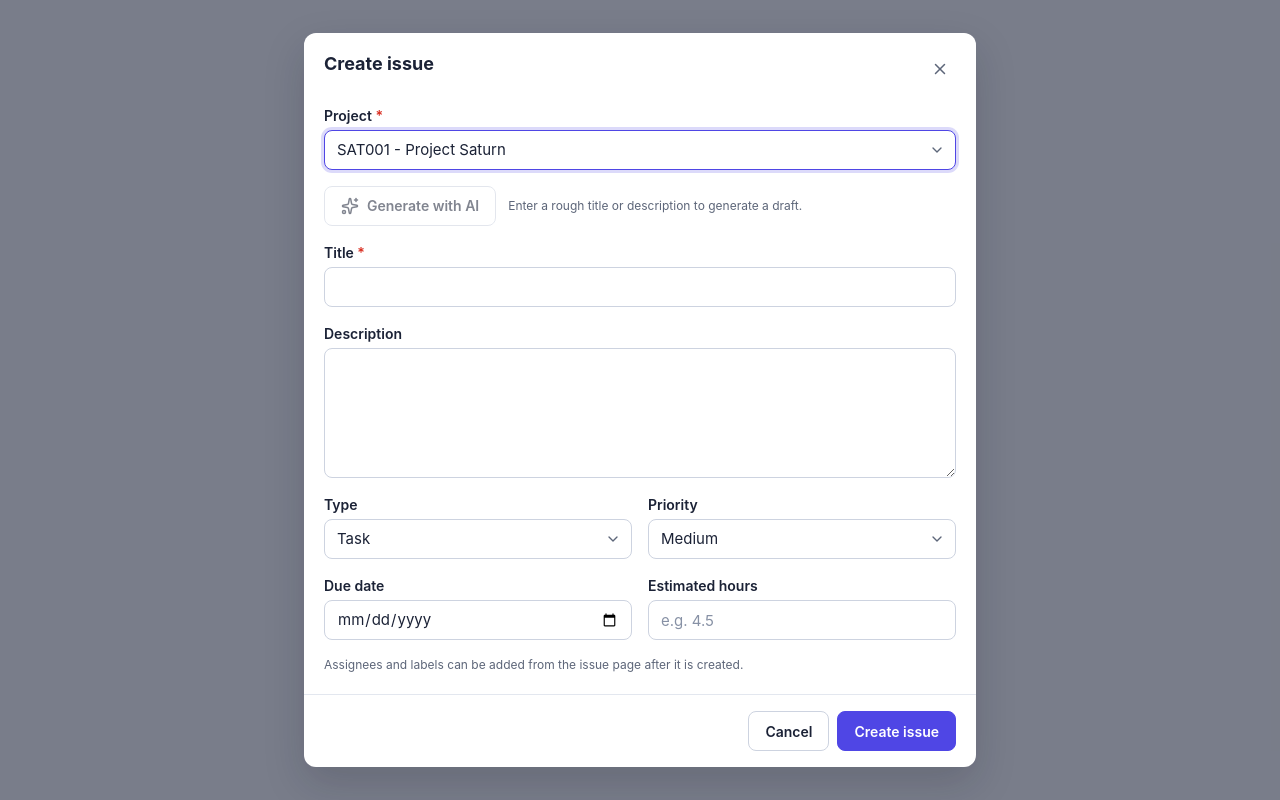
AI issue assistant in the create issue form › shows an error, keeps the form values, and allows retry
The width and height of the screenshot is (1280, 800).
In the field labelled "Title *": (640, 287) [324,267,956,307], type "My title"
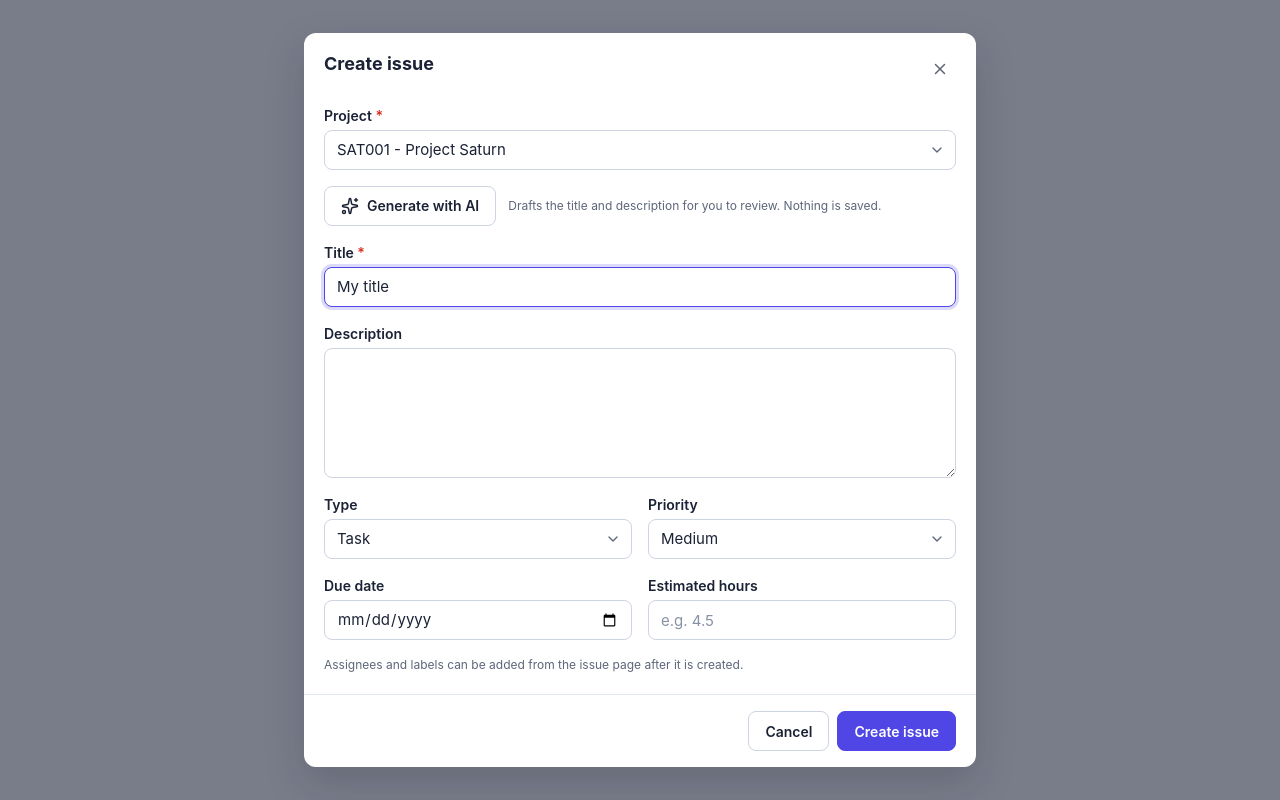
In the text box labelled "Description": (640, 413) [324,348,956,478], type "login crashes"
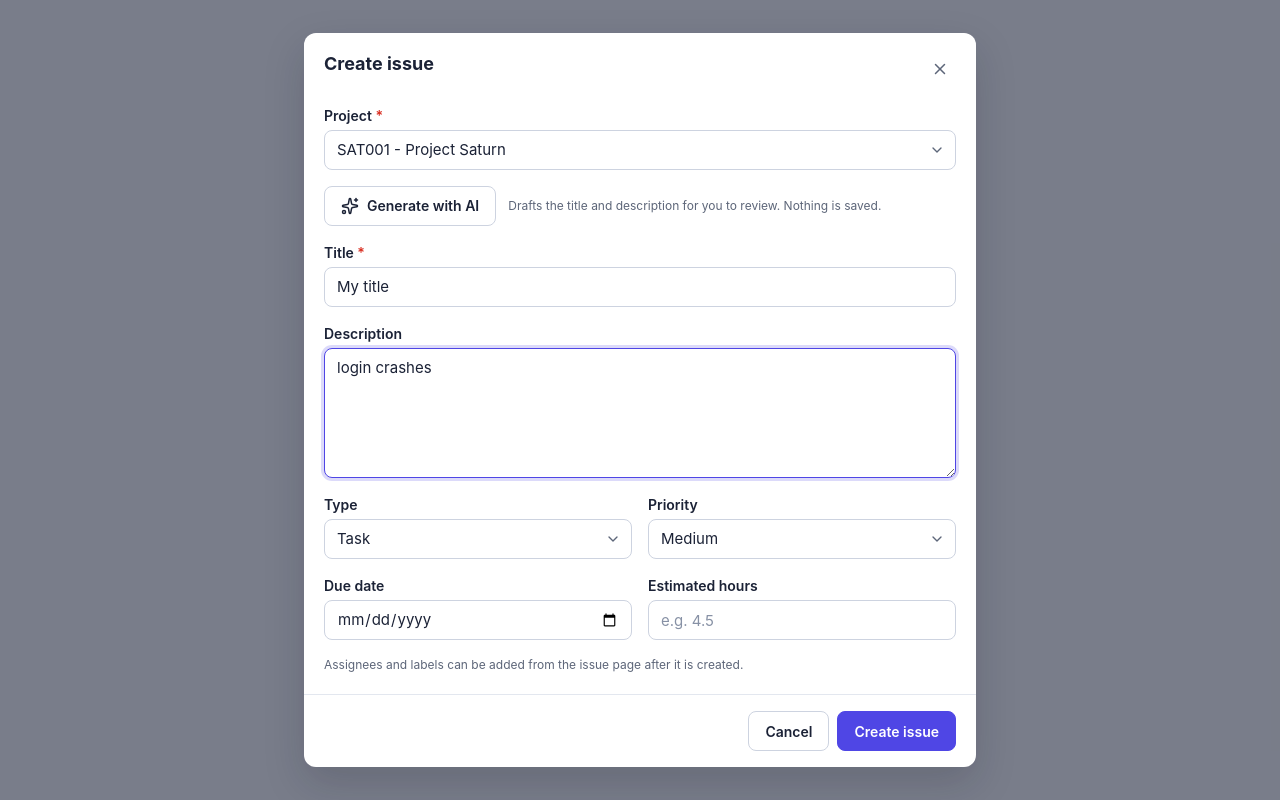
Click the button "Generate with AI": (410, 206) [324,186,496,226]
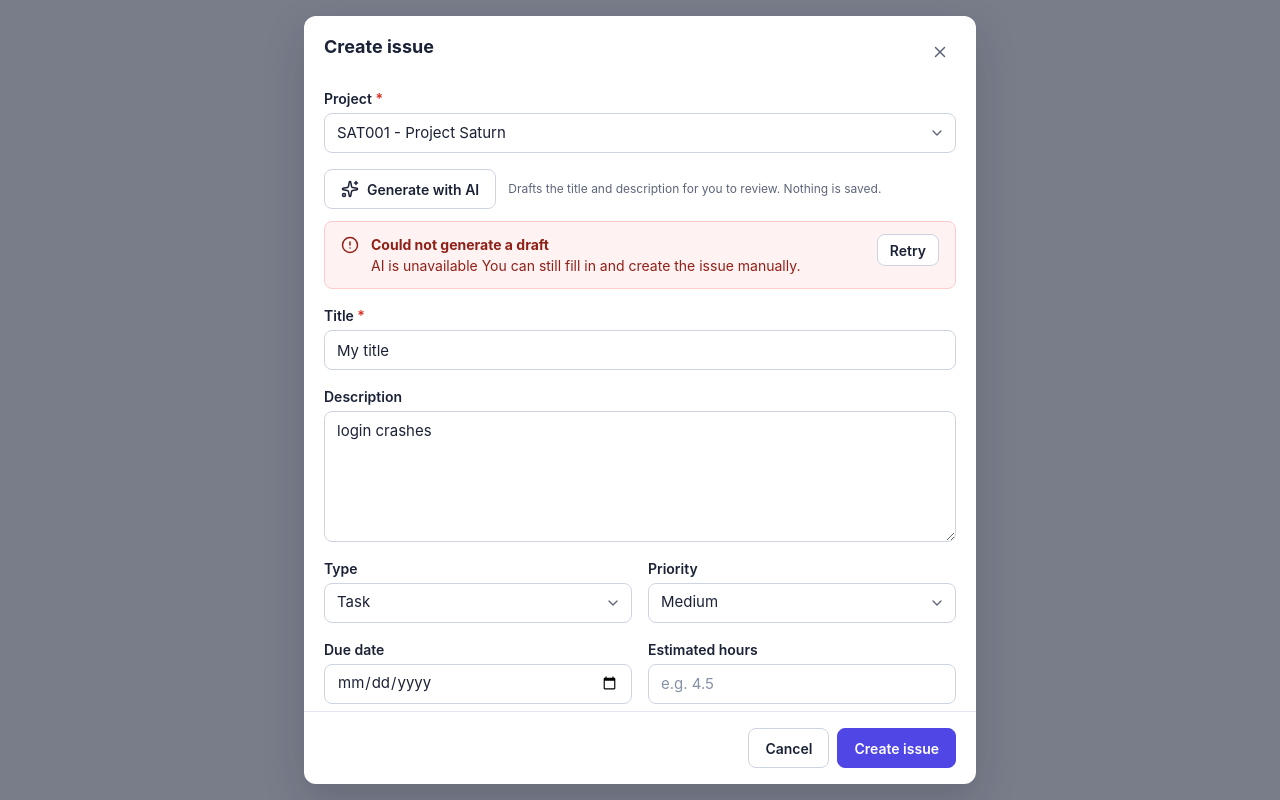
Now the message shows "AI is unavailable", box [371,257,478,274]
Click the button "Retry": (908, 250) [877,234,939,266]
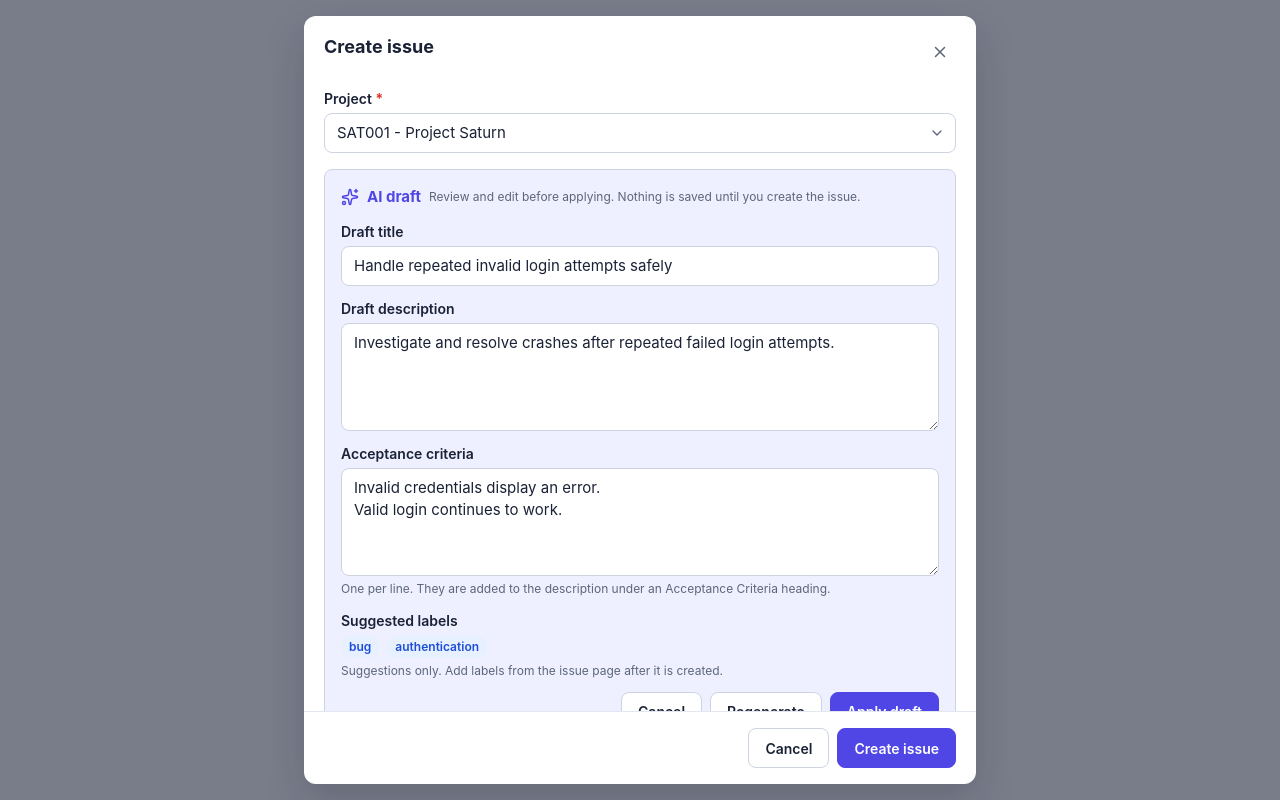
Now the element "AI draft Review" is shown, box [324,169,956,711]
